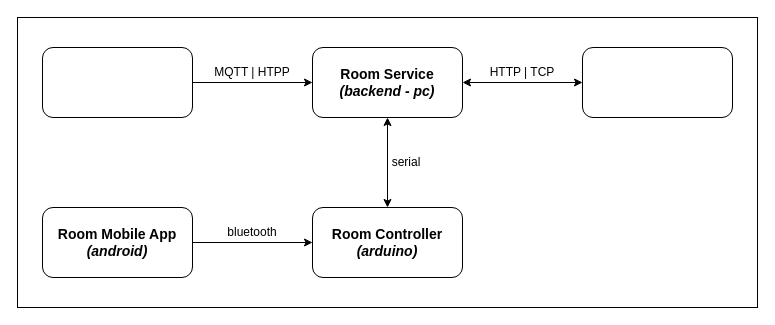
Image size: 775x325. Some labels were removed from this diagram. The shapes that lost their labels are listed below. From the top down, each one's centre as x and y in pixels, then its label:
At [117,82]: "Room Sensor-Board (esp)".
At [657,82]: "Room Dashboard (frontend -pc)".
